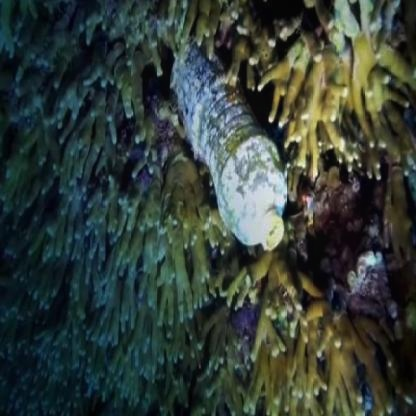pbottle: (157, 48, 328, 284)
